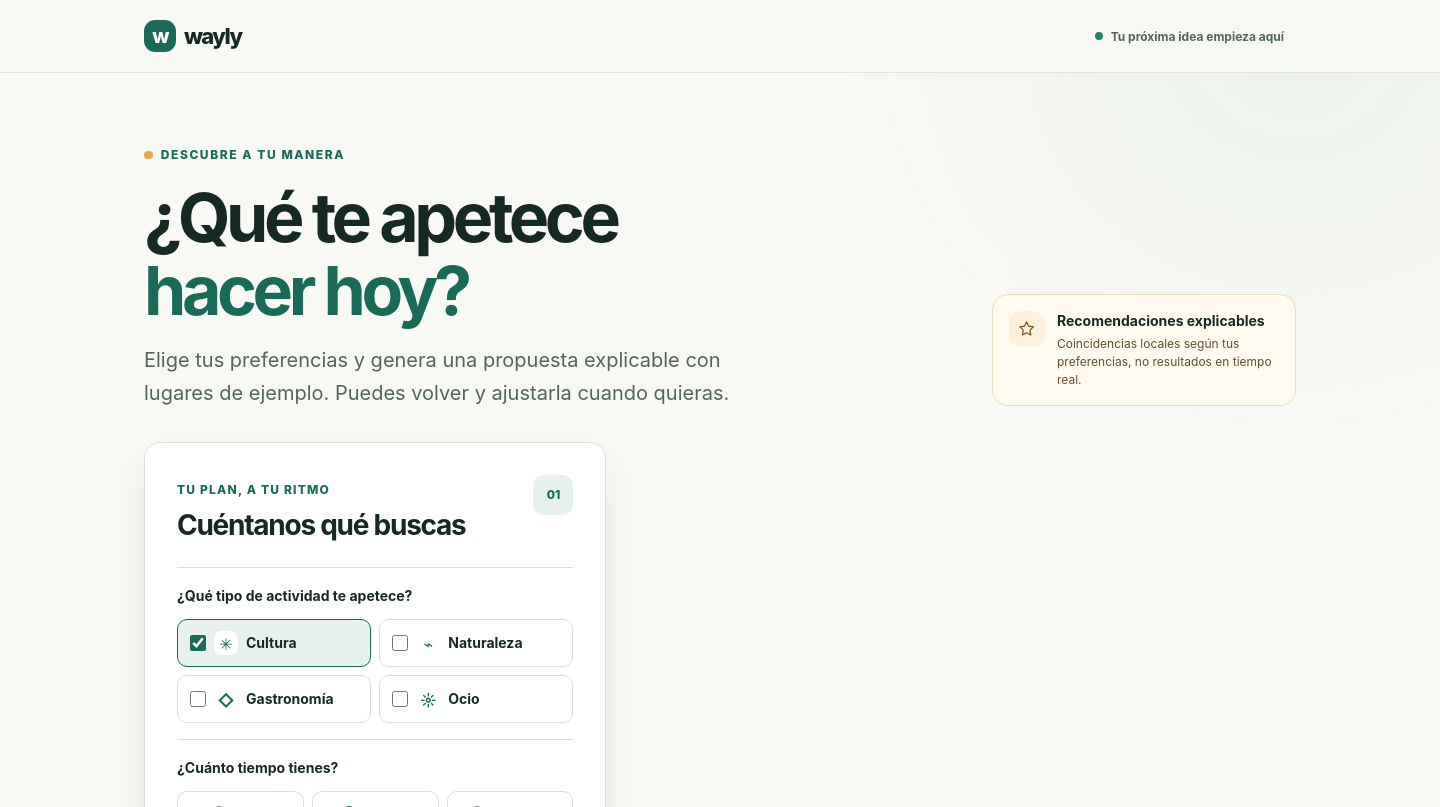
it: DiscoverPageComponent › shows all categories when every category checkbox is cleared
Click the checkbox named "activityType" at (198, 643), box [190,635,206,651]
(page scrolled)
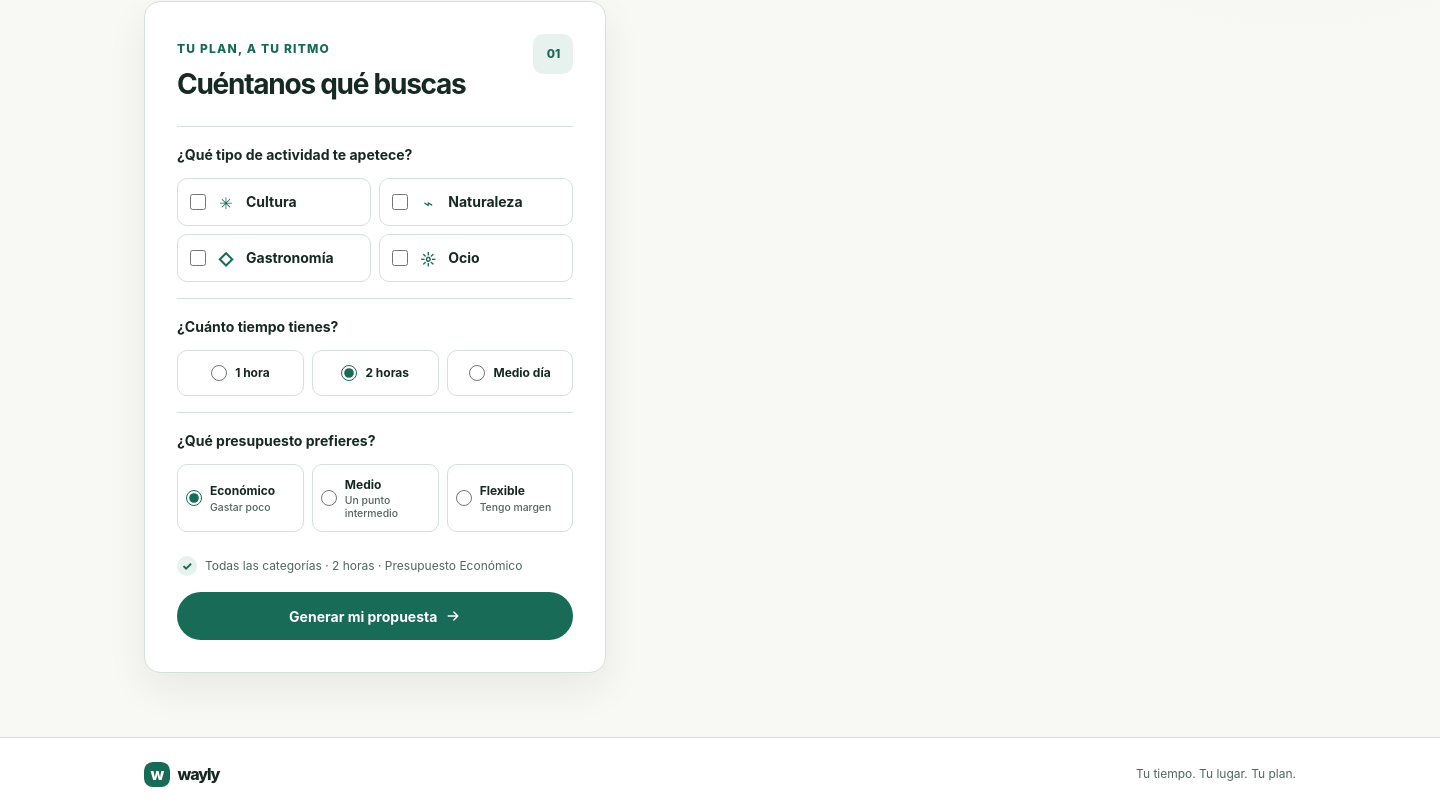
Check: the element showing "✓ Todas las categorías · 2 horas · Presupuesto Económico" is shown, box [177,556,574,576]
Click the button "Generar mi propuesta" at (375, 616), box [177,592,574,640]
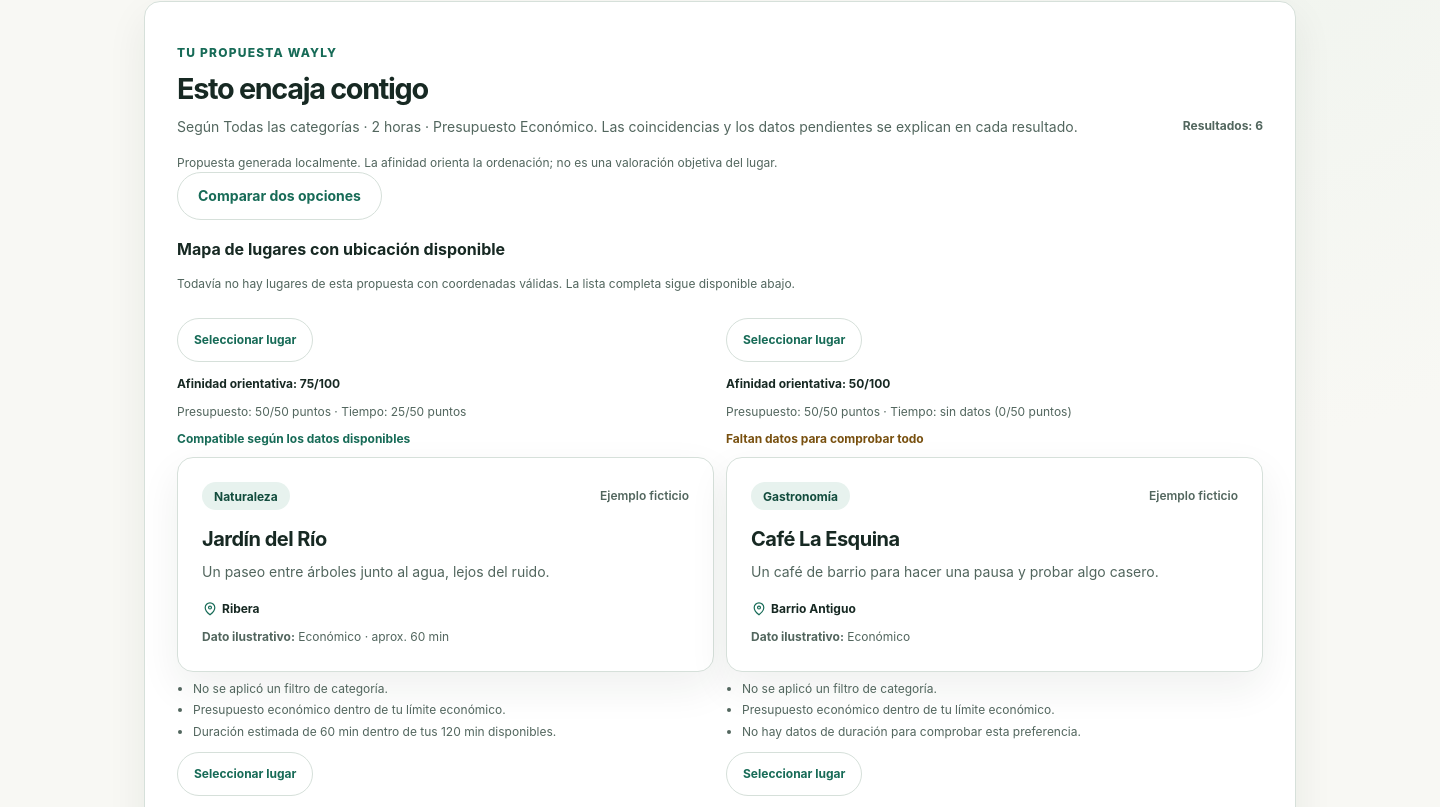
Check: the text named "Preferencias utilizadas" shows "Todas las categorías", box [177,118,1078,135]
